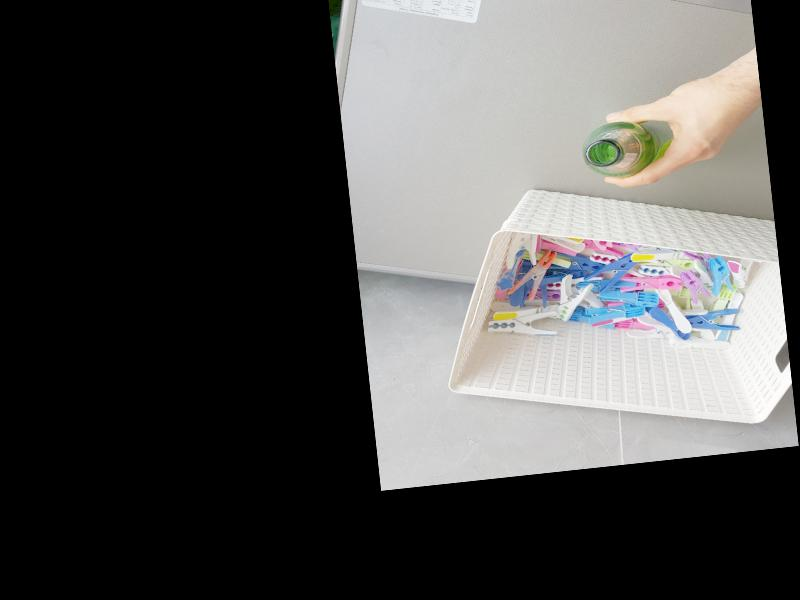Beer: (579, 117, 663, 180)
